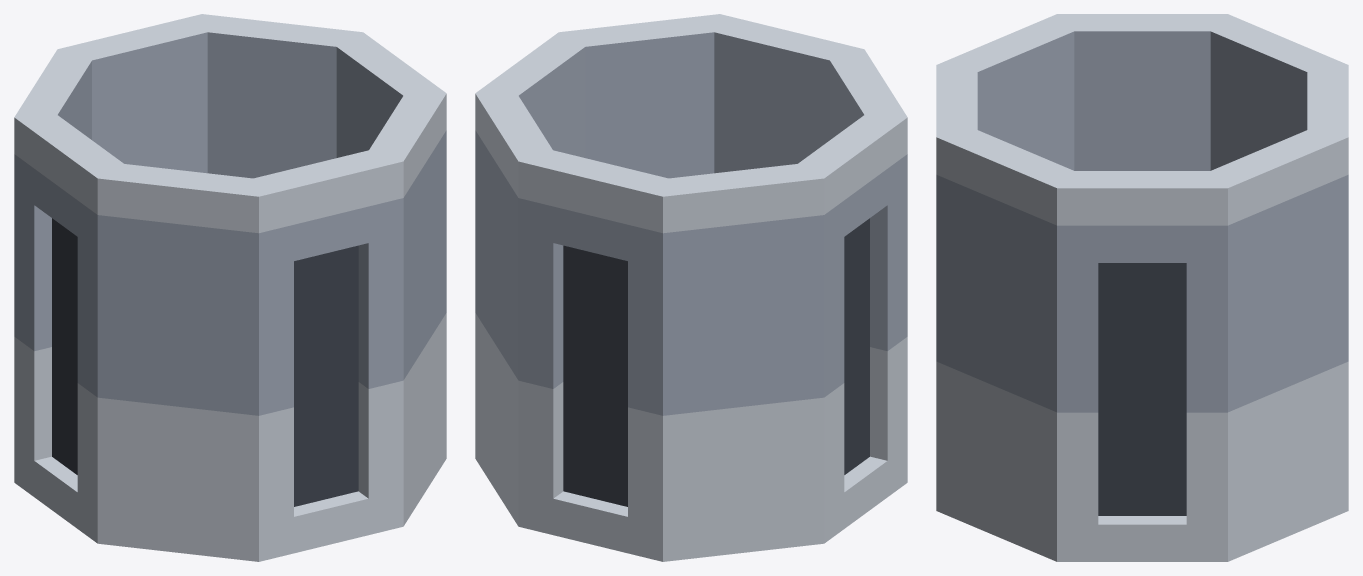
File: cohete_cuerpo.obj
3 renders of one model, left to right at view 1: azimuth 30°, elevation 25°; view 2: azimuth 150°, elevation 25°; view 3: azimuth 270°, elevation 25°, orthographic. The views are drawn at different scales.
Visible parts, largest first — view 1: cohete_cuerpo; view 2: cohete_cuerpo; view 3: cohete_cuerpo.
Part boxes in pixels (x1=…): cohete_cuerpo: x1=14, y1=14, x2=446, y2=561; cohete_cuerpo: x1=475, y1=14, x2=907, y2=561; cohete_cuerpo: x1=936, y1=14, x2=1348, y2=561.
Bounding box in the file's own units: 1 × 1 × 1.
